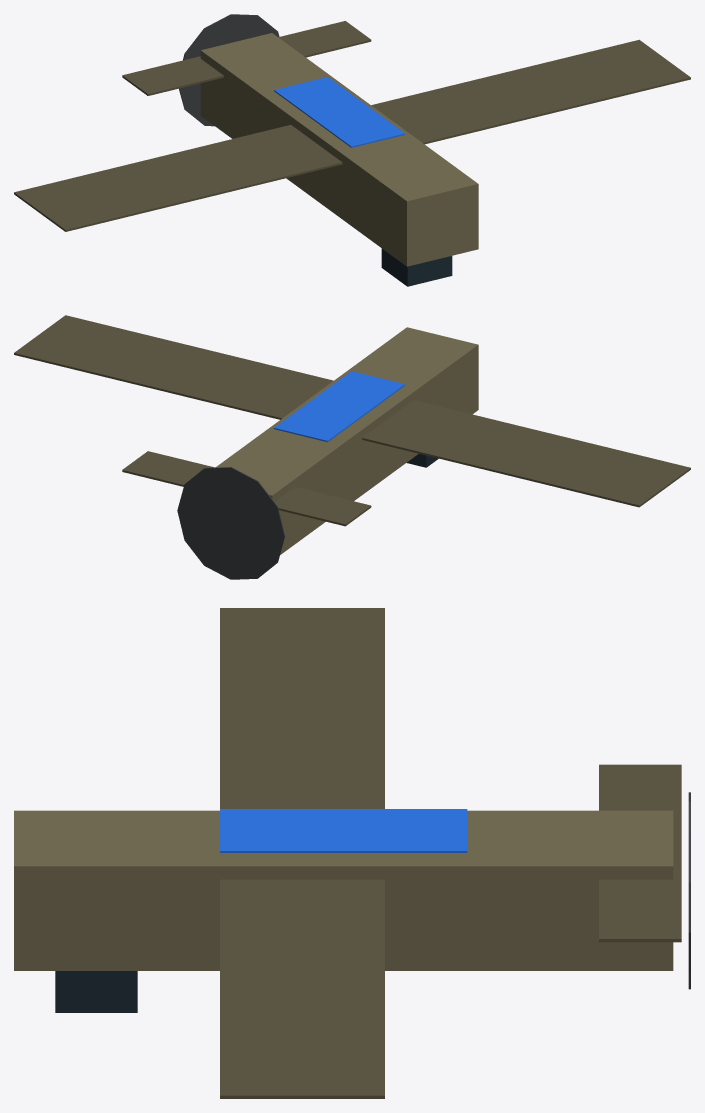
Rendered from us_stealth_fighter.glb.
3 renders of one model, top to bottom at view 1: azimuth 30°, elevation 25°; view 2: azimuth 150°, elevation 25°; view 3: azimuth 270°, elevation 25°, orthographic. The views are drawn at different scales.
Parts seen in each view (by area): view 1: wing, body, team_plate, tail, prop, camera_pod; view 2: wing, body, prop, team_plate, tail; view 3: body, wing, team_plate, tail, camera_pod.
Part boxes in pixels (x1,y1,x2,y2): wing: (14, 39, 690, 231); body: (200, 33, 478, 266); team_plate: (274, 77, 404, 147); tail: (122, 21, 371, 95); prop: (179, 14, 279, 126); camera_pod: (381, 248, 452, 286); wing: (14, 315, 690, 507); body: (215, 327, 478, 554); prop: (177, 467, 285, 579); team_plate: (274, 371, 404, 442); tail: (122, 451, 371, 526); body: (14, 810, 673, 970); wing: (220, 608, 384, 1098); team_plate: (220, 809, 467, 852); tail: (599, 764, 681, 942); camera_pod: (55, 971, 137, 1012).
Bounding box in the file's own units: 9.8 × 1.82 × 5.75.
